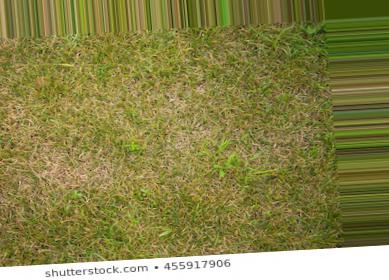patch: (1, 40, 296, 239)
